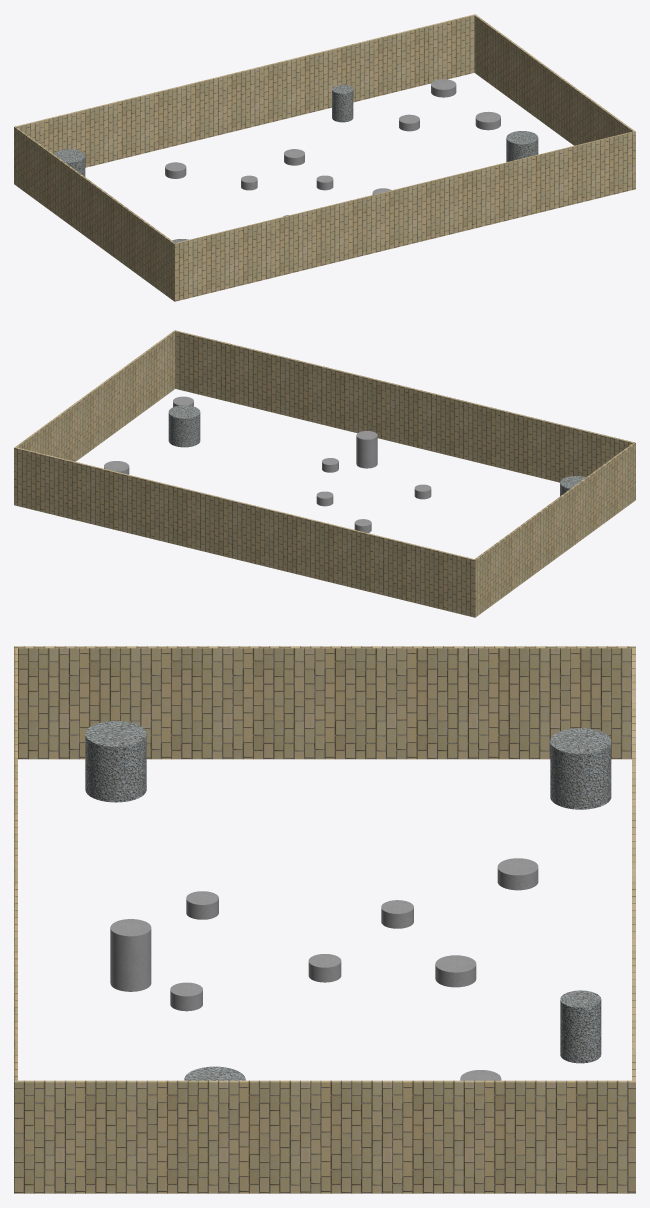
The model's file is envF.dae.
3 renders of one model, top to bottom at view 1: azimuth 30°, elevation 25°; view 2: azimuth 150°, elevation 25°; view 3: azimuth 270°, elevation 25°, orthographic. The views are drawn at different scales.
Visible parts, largest first — view 1: stitch_result_stitchFBXASC032all_ncl1_11, stitch_result_stitchFBXASC032all_ncl1_5, stitch_result_stitchFBXASC032all_ncl1_7, stitch_result_stitchFBXASC032all_ncl1_10, stitch_result_stitchFBXASC032all_ncl1_1, stitch_result_stitchFBXASC032all_ncl1_8; view 2: stitch_result_stitchFBXASC032all_ncl1_11, stitch_result_stitchFBXASC032all_ncl1_5, stitch_result_stitchFBXASC032all_ncl1_3; view 3: stitch_result_stitchFBXASC032all_ncl1_11, stitch_result_stitchFBXASC032all_ncl1_10, stitch_result_stitchFBXASC032all_ncl1_15, stitch_result_stitchFBXASC032all_ncl1_7, stitch_result_stitchFBXASC032all_ncl1_3, stitch_result_stitchFBXASC032all_ncl1_12, stitch_result_stitchFBXASC032all, stitch_result_stitchFBXASC032all_ncl1_14, stitch_result_stitchFBXASC032all_ncl1_4, stitch_result_stitchFBXASC032all_ncl1_13, stitch_result_stitchFBXASC032all_ncl1_2.
Part boxes in pixels (x1,y1,x2,y2): stitch_result_stitchFBXASC032all_ncl1_11: (14, 14, 635, 301); stitch_result_stitchFBXASC032all_ncl1_5: (506, 131, 538, 162); stitch_result_stitchFBXASC032all_ncl1_7: (332, 84, 353, 122); stitch_result_stitchFBXASC032all_ncl1_10: (54, 149, 85, 176); stitch_result_stitchFBXASC032all_ncl1_1: (475, 111, 500, 130); stitch_result_stitchFBXASC032all_ncl1_8: (431, 79, 456, 97); stitch_result_stitchFBXASC032all_ncl1_11: (14, 330, 635, 617); stitch_result_stitchFBXASC032all_ncl1_5: (168, 405, 200, 447); stitch_result_stitchFBXASC032all_ncl1_3: (356, 431, 377, 468); stitch_result_stitchFBXASC032all_ncl1_11: (14, 646, 635, 1193); stitch_result_stitchFBXASC032all_ncl1_10: (550, 728, 611, 809); stitch_result_stitchFBXASC032all_ncl1_15: (85, 721, 146, 802); stitch_result_stitchFBXASC032all_ncl1_7: (560, 990, 601, 1063); stitch_result_stitchFBXASC032all_ncl1_3: (110, 919, 151, 991); stitch_result_stitchFBXASC032all_ncl1_12: (497, 858, 538, 890); stitch_result_stitchFBXASC032all: (435, 955, 476, 987); stitch_result_stitchFBXASC032all_ncl1_14: (308, 954, 341, 982); stitch_result_stitchFBXASC032all_ncl1_4: (170, 982, 202, 1011); stitch_result_stitchFBXASC032all_ncl1_13: (381, 900, 413, 928); stitch_result_stitchFBXASC032all_ncl1_2: (186, 891, 218, 919).
Size of the model in its own units: 126 by 76 by 15.
3 materials, 3 textured.
